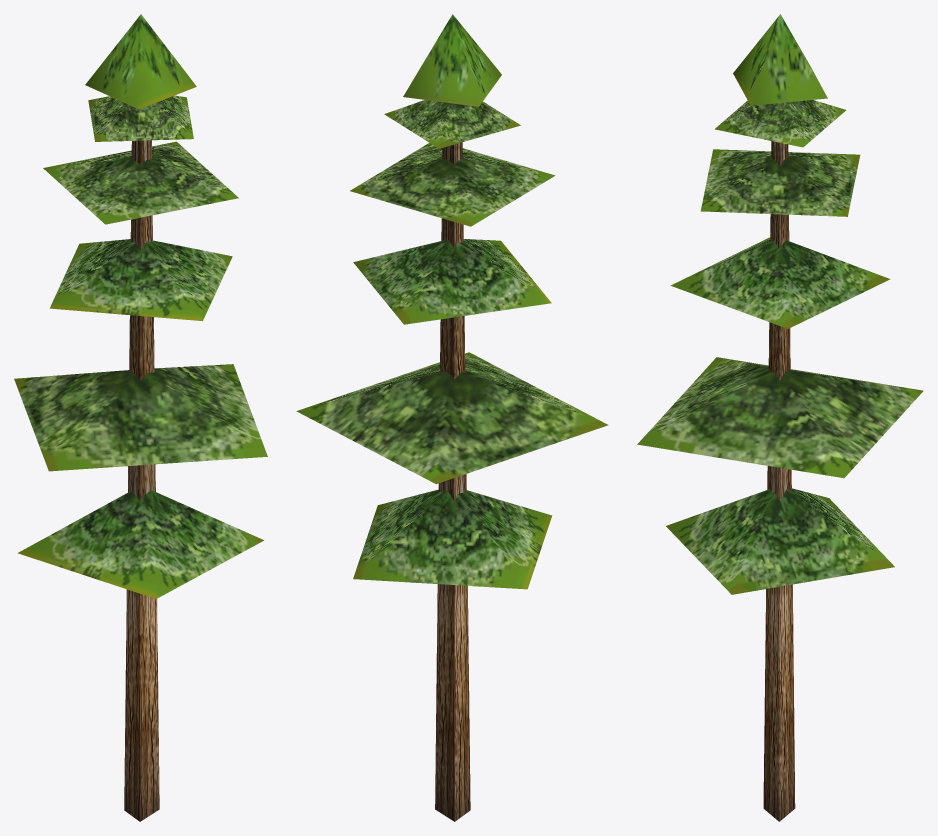
The model's file is idle.glb.
3 views of the same model, side by side, from view 1: azimuth 30°, elevation 25°; view 2: azimuth 150°, elevation 25°; view 3: azimuth 270°, elevation 25° (orthographic).
Parts seen in each view (by area): view 1: MeshRoot; view 2: MeshRoot; view 3: MeshRoot.
Boxes of the visible parts, x1,y1,x2,y2 form: MeshRoot: (14,14,267,821); MeshRoot: (296,14,608,821); MeshRoot: (637,14,923,821).
Bounding box in the file's own units: 3.84 × 11.82 × 3.84.
Materials: 1 (1 with a texture image).
